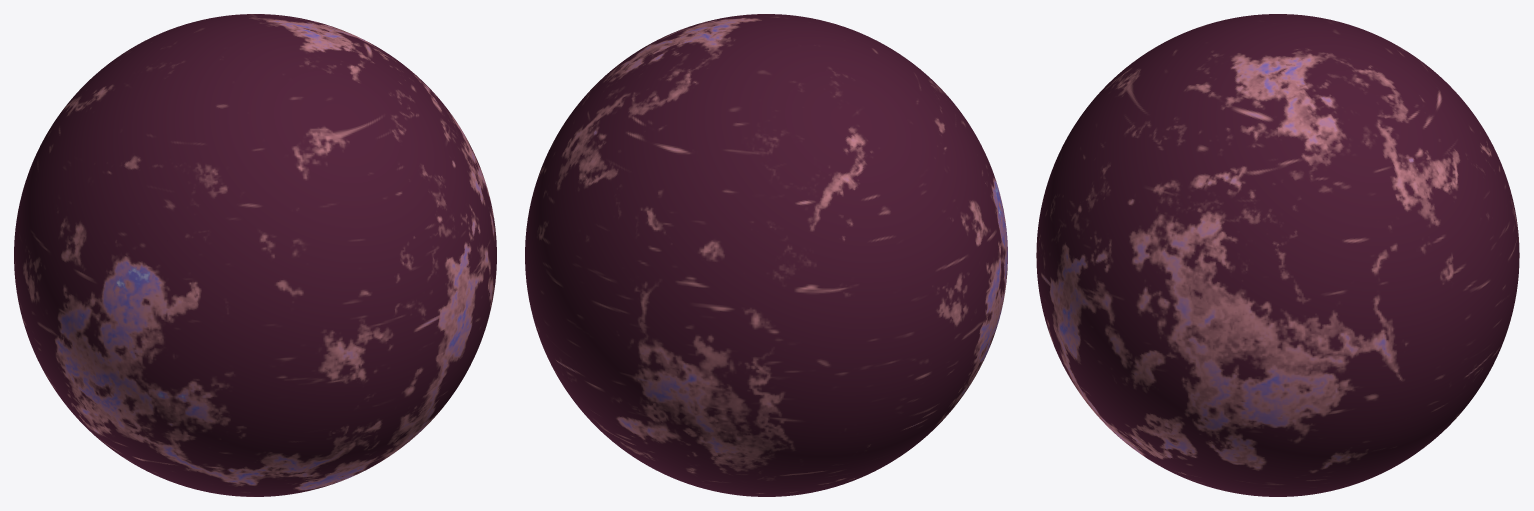
The model's file is purple_planet.glb.
3 views of the same model, side by side, from view 1: azimuth 30°, elevation 25°; view 2: azimuth 150°, elevation 25°; view 3: azimuth 270°, elevation 25° (orthographic).
Visible parts, largest first — view 1: SciFi Purple Planet; view 2: SciFi Purple Planet; view 3: SciFi Purple Planet.
Boxes of the visible parts, x1,y1,x2,y2 form: SciFi Purple Planet: (14,14,496,496); SciFi Purple Planet: (525,14,1007,496); SciFi Purple Planet: (1036,14,1519,496).
Bounding box in the file's own units: 2 × 2 × 2.
Materials: 1 (1 with a texture image).
